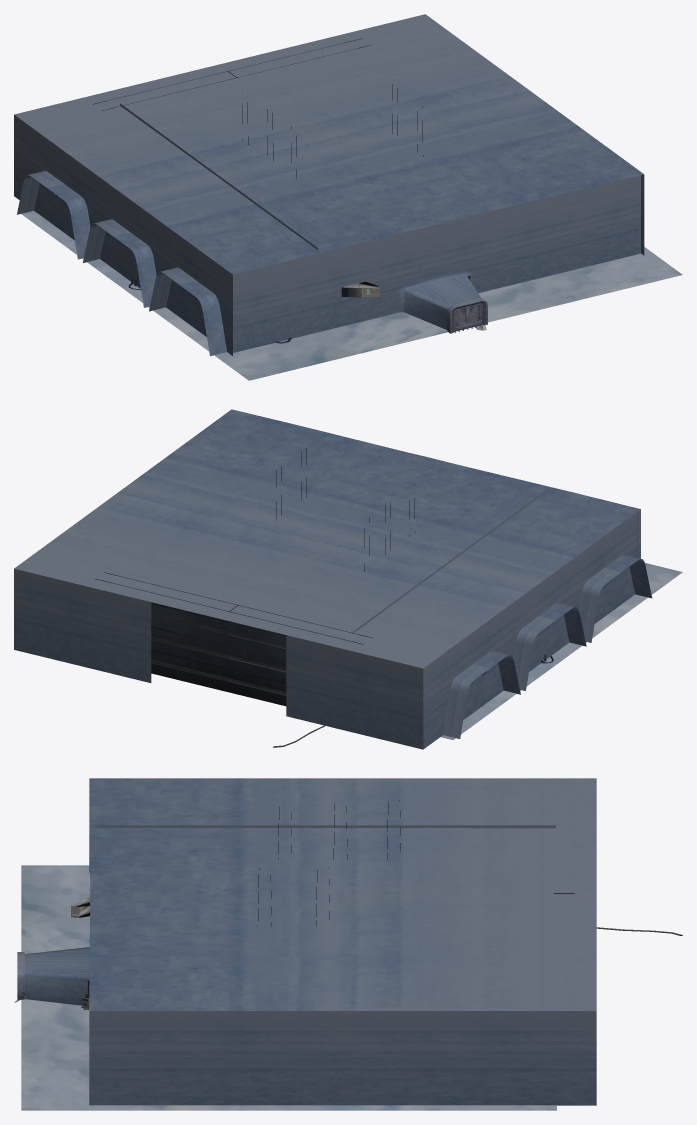
Rendered from env_hoth_hangar_03_pre.glb.
The picture shows the model from 3 angles, top to bottom: view 1: azimuth 30°, elevation 25°; view 2: azimuth 150°, elevation 25°; view 3: azimuth 270°, elevation 25°; orthographic projection. The views are drawn at different scales.
Visible parts, largest first — view 1: hoth_hangar_01_walls_mesh (1), hoth_hangar_01_backwall_mesh, ground_plane_lrg_mesh (1), hoth_ice_hangar_mesh (×2), hoth_ice_hangar_mesh (1), blast_door_mesh, prop_millenium_falcon_01_mesh (1); view 2: hoth_hangar_01_walls_mesh (1), hoth_echo_door_right_mesh, hoth_ice_hangar_mesh (×2), hoth_echo_door_left_mesh, ground_plane_lrg_mesh (1), hoth_ice_hangar_mesh (1); view 3: hoth_hangar_01_walls_mesh (1), ground_plane_lrg_mesh (1), hoth_hangar_01_backwall_mesh, hoth_ice_hangar_mesh (1).
Boxes of the visible parts, x1,y1,x2,y2 form: hoth_hangar_01_walls_mesh (1): [14, 14, 644, 355]; hoth_hangar_01_backwall_mesh: [233, 175, 640, 352]; ground_plane_lrg_mesh (1): [21, 210, 682, 380]; hoth_ice_hangar_mesh (×2): [83, 152, 318, 356]; hoth_ice_hangar_mesh (1): [16, 103, 185, 259]; blast_door_mesh: [454, 303, 482, 332]; prop_millenium_falcon_01_mesh (1): [341, 276, 470, 298]; hoth_hangar_01_walls_mesh (1): [14, 409, 640, 749]; hoth_echo_door_right_mesh: [95, 572, 245, 692]; hoth_ice_hangar_mesh (×2): [418, 488, 652, 690]; hoth_echo_door_left_mesh: [218, 605, 372, 706]; ground_plane_lrg_mesh (1): [440, 563, 682, 739]; hoth_ice_hangar_mesh (1): [352, 584, 520, 738]; hoth_hangar_01_walls_mesh (1): [89, 778, 596, 1105]; ground_plane_lrg_mesh (1): [21, 865, 556, 1110]; hoth_hangar_01_backwall_mesh: [24, 947, 89, 1005]; hoth_ice_hangar_mesh (1): [403, 825, 555, 828].
Bounding box in the file's own units: 61.85 × 19.02 × 70.55.
21 materials, 21 textured.
